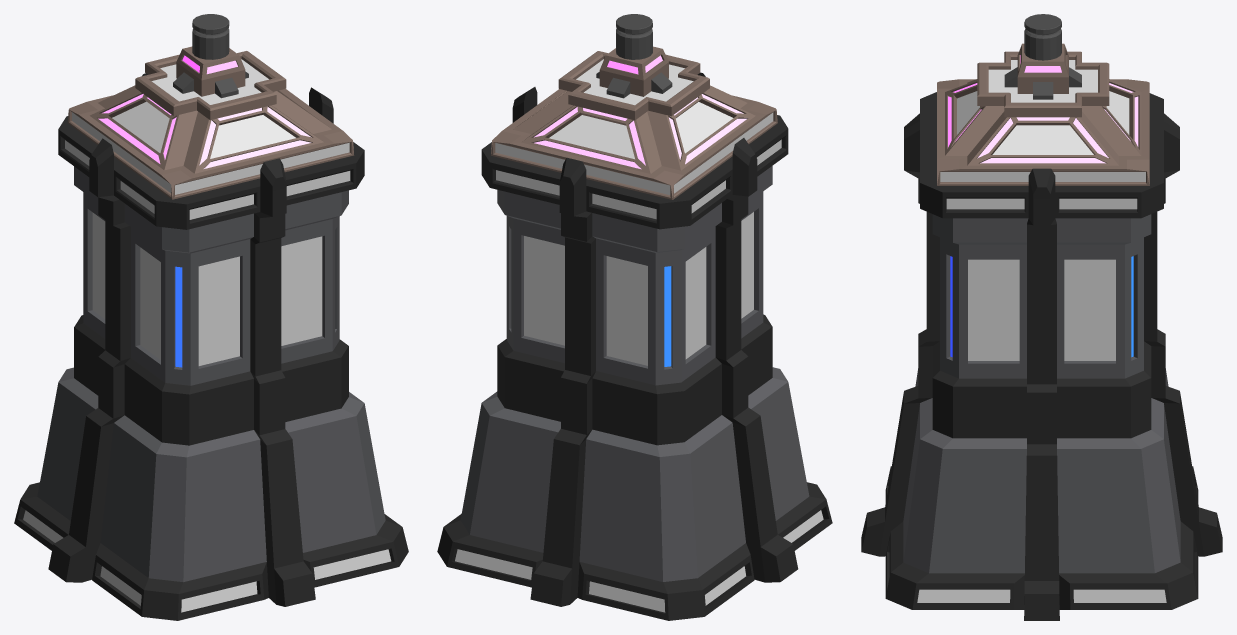
File: Turret_body.fbx
3 renders of one model, left to right at view 1: azimuth 30°, elevation 25°; view 2: azimuth 150°, elevation 25°; view 3: azimuth 270°, elevation 25°, orthographic.
Parts seen in each view (by area): view 1: Cube.001; view 2: Cube.001; view 3: Cube.001.
Part boxes in pixels (x1,y1,x2,y2): Cube.001: [14, 14, 408, 620]; Cube.001: [437, 14, 832, 620]; Cube.001: [861, 14, 1222, 620].
Bounding box in the file's own units: 1091 × 1758 × 1091.
